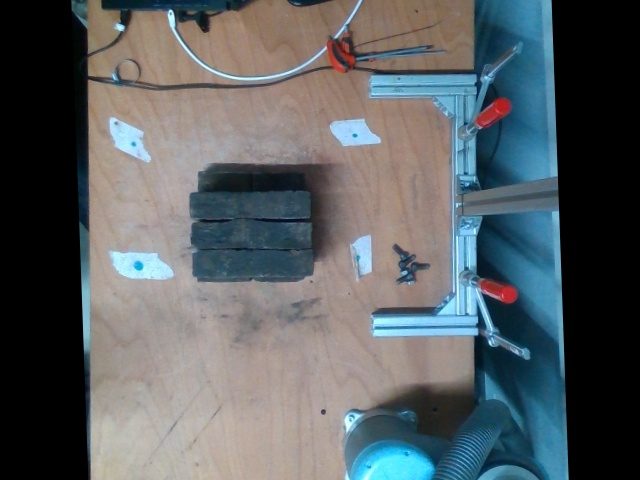brick-side: (191, 193, 309, 217), (194, 251, 311, 274), (191, 223, 308, 246)
